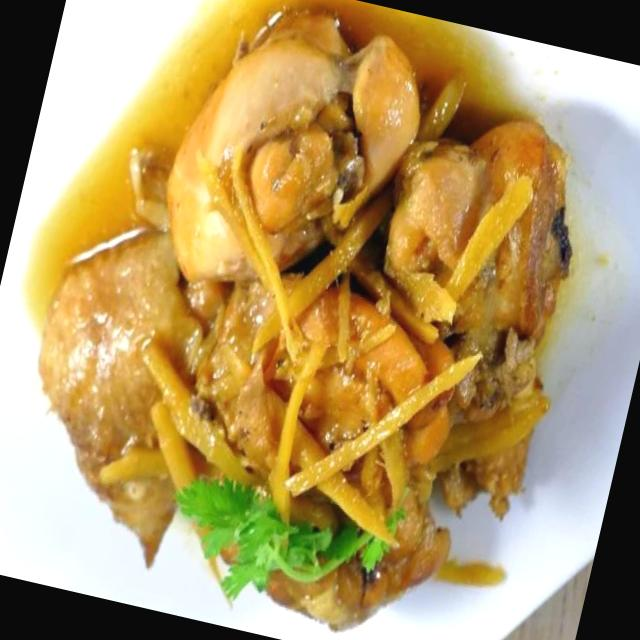ga kho: (43, 10, 571, 627)
